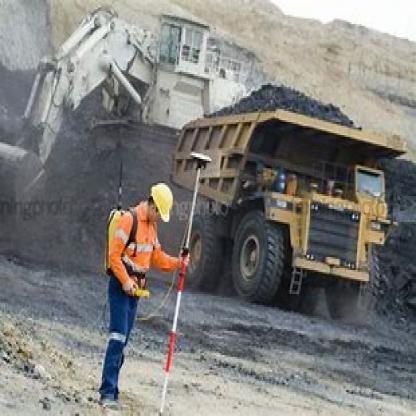person: (94, 174, 181, 414)
